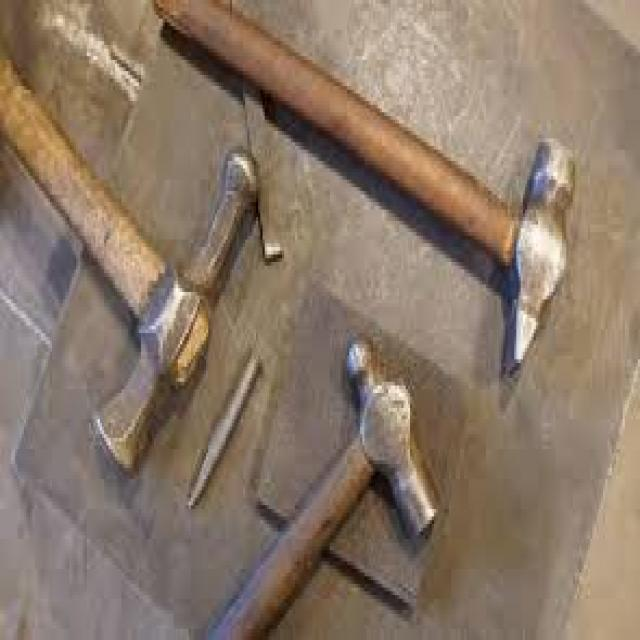hammer: (144, 0, 580, 385), (0, 11, 265, 494), (201, 340, 449, 640)
